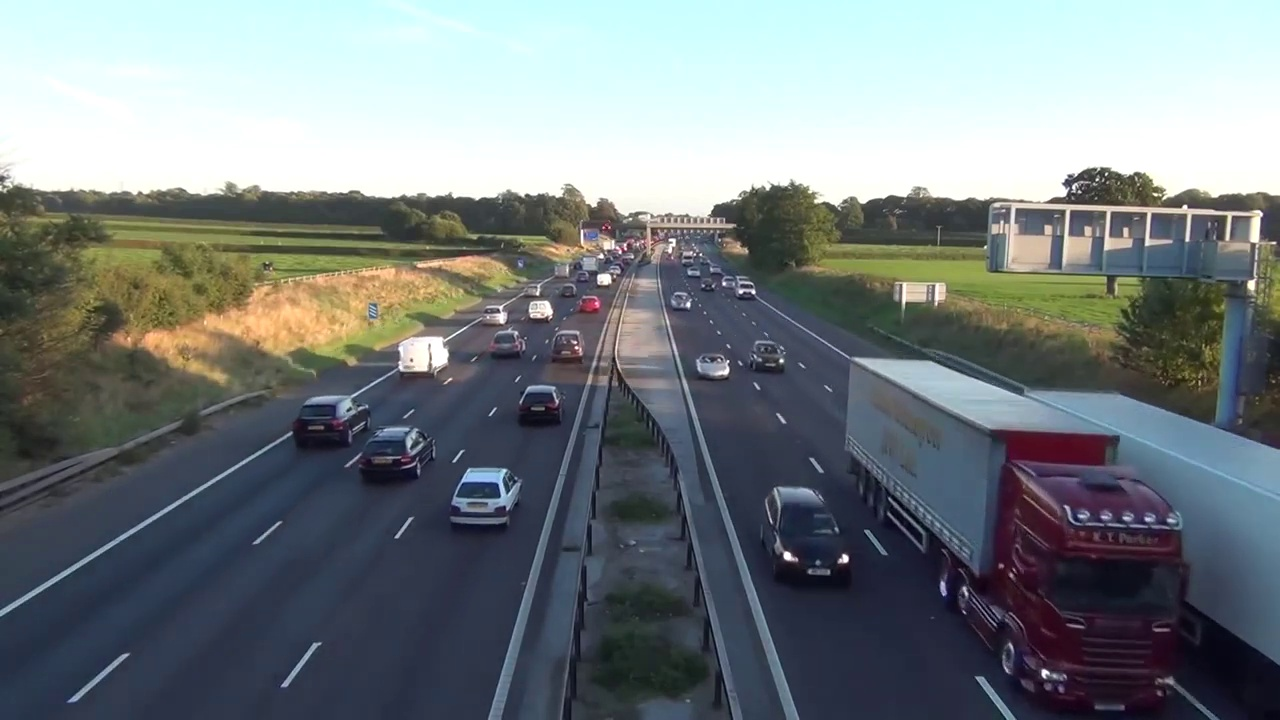bus: (760, 486, 852, 584), (450, 468, 520, 529), (360, 428, 435, 479), (293, 395, 371, 444), (518, 384, 563, 425), (748, 341, 784, 372), (490, 329, 527, 356), (553, 330, 584, 360), (697, 353, 730, 379), (483, 306, 508, 324), (670, 291, 692, 311), (578, 295, 600, 312), (700, 278, 714, 291), (721, 275, 735, 288)
car: (847, 358, 1189, 713)
lorry: (397, 336, 448, 377), (528, 301, 554, 321), (735, 277, 756, 299)
